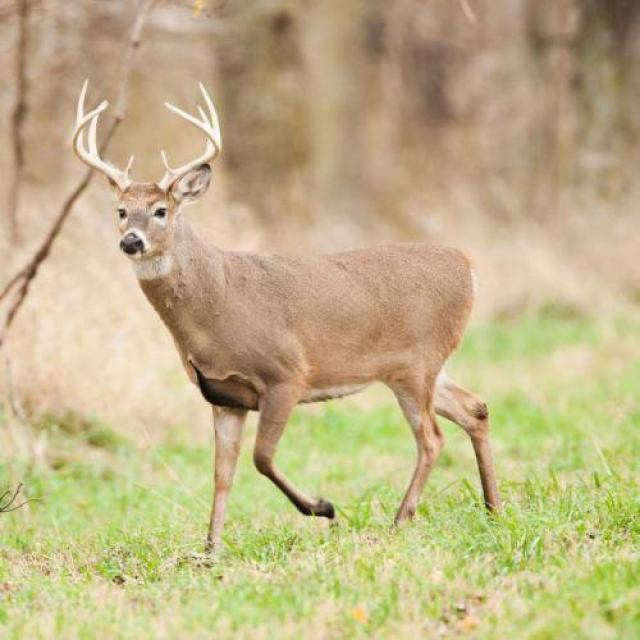Deer: (72, 72, 509, 575)
